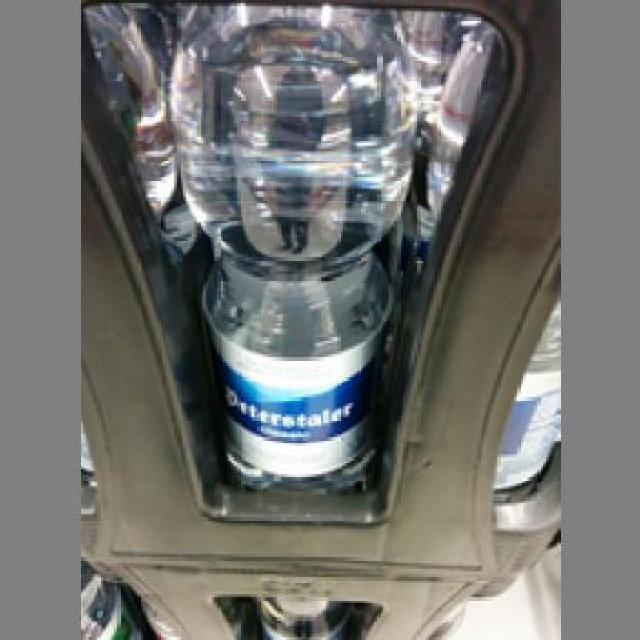Water: (159, 2, 415, 492)
